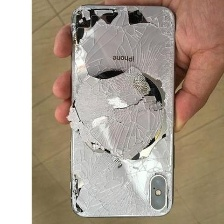phone: (68, 0, 180, 220)
